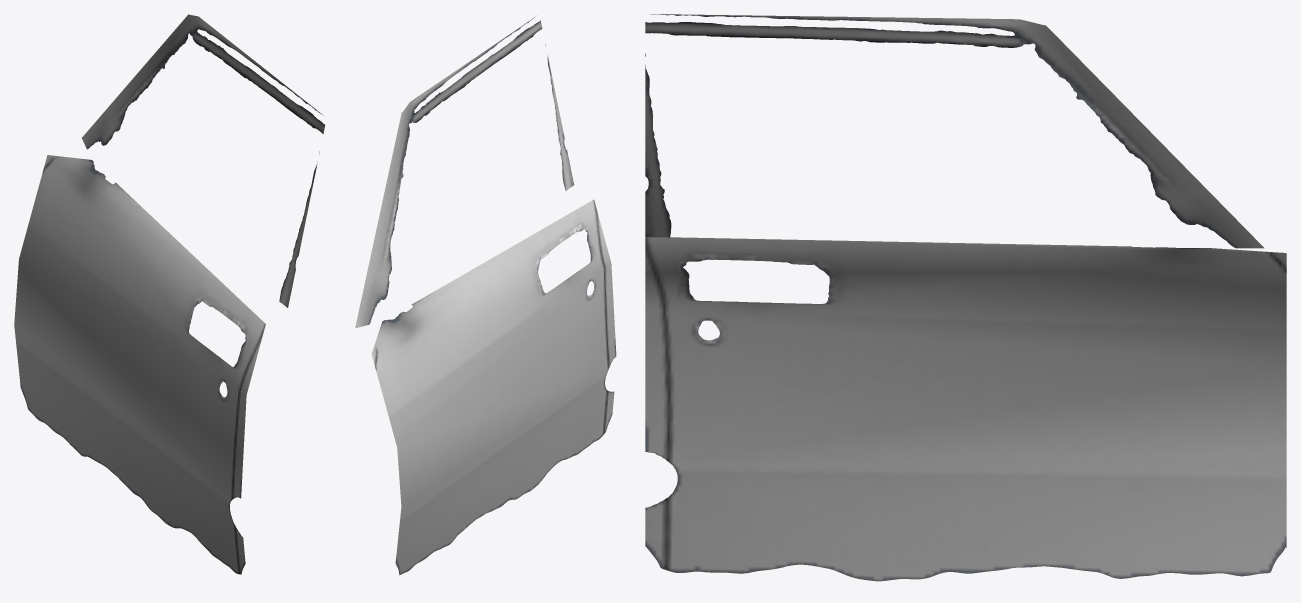
The model's file is SM_AbandonedCar_Door_FL.fbx.
The picture shows the model from 3 angles, left to right: view 1: azimuth 30°, elevation 25°; view 2: azimuth 150°, elevation 25°; view 3: azimuth 270°, elevation 25°; orthographic projection. The views are drawn at different scales.
Visible parts, largest first — view 1: SM_AbandonedCar_Door_FL; view 2: SM_AbandonedCar_Door_FL; view 3: SM_AbandonedCar_Door_FL.
Boxes of the visible parts, <box> form: SM_AbandonedCar_Door_FL: <box>14,14,325,574</box>; SM_AbandonedCar_Door_FL: <box>355,16,616,575</box>; SM_AbandonedCar_Door_FL: <box>645,14,1286,581</box>.
Bounding box in the file's own units: 23.48 × 99.5 × 93.
1 material, 1 textured.
